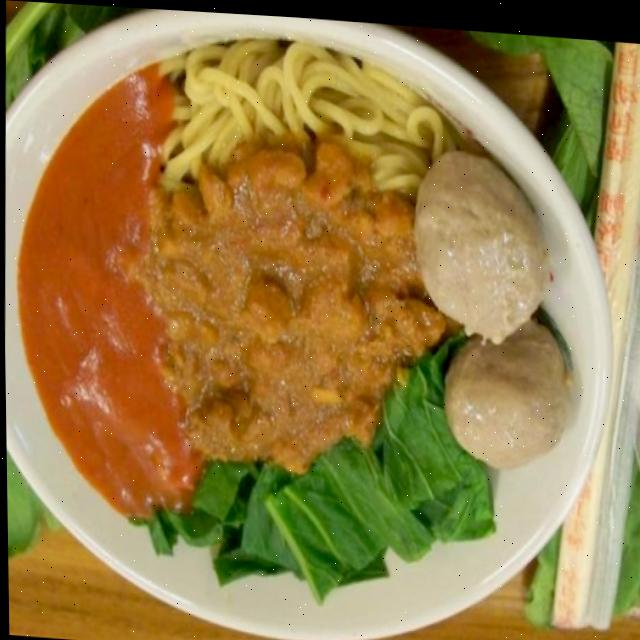面条主食: (0, 10, 596, 640)
